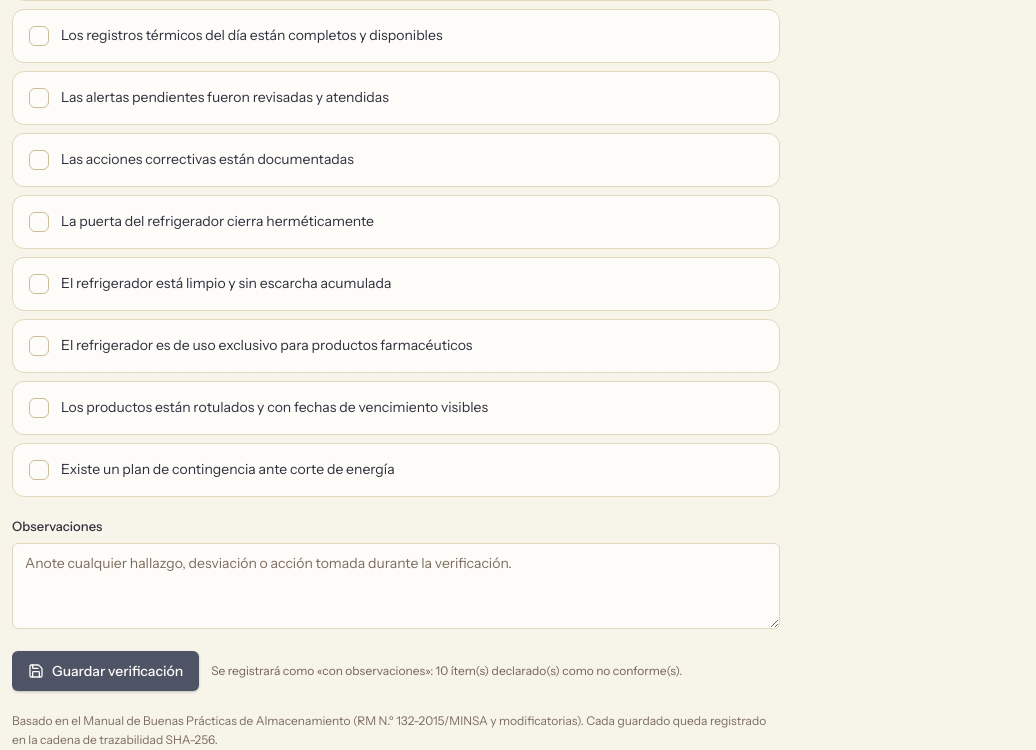
Test: ChecklistBPAPage (HU-37) › informa del fallo si el backend rechaza el guardado
(page scrolled)
Click the button "Guardar verificación": [106, 671] box 12,651 -> 199,691
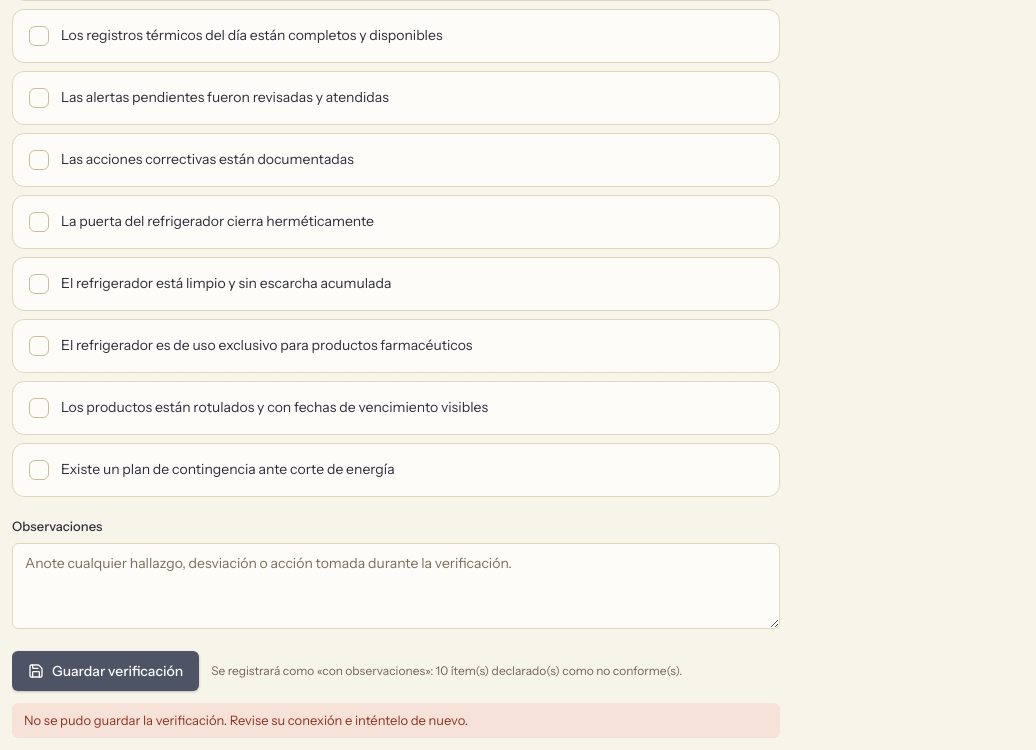
Check: the message shows "No se pudo guardar", box 24,712 -> 468,728
